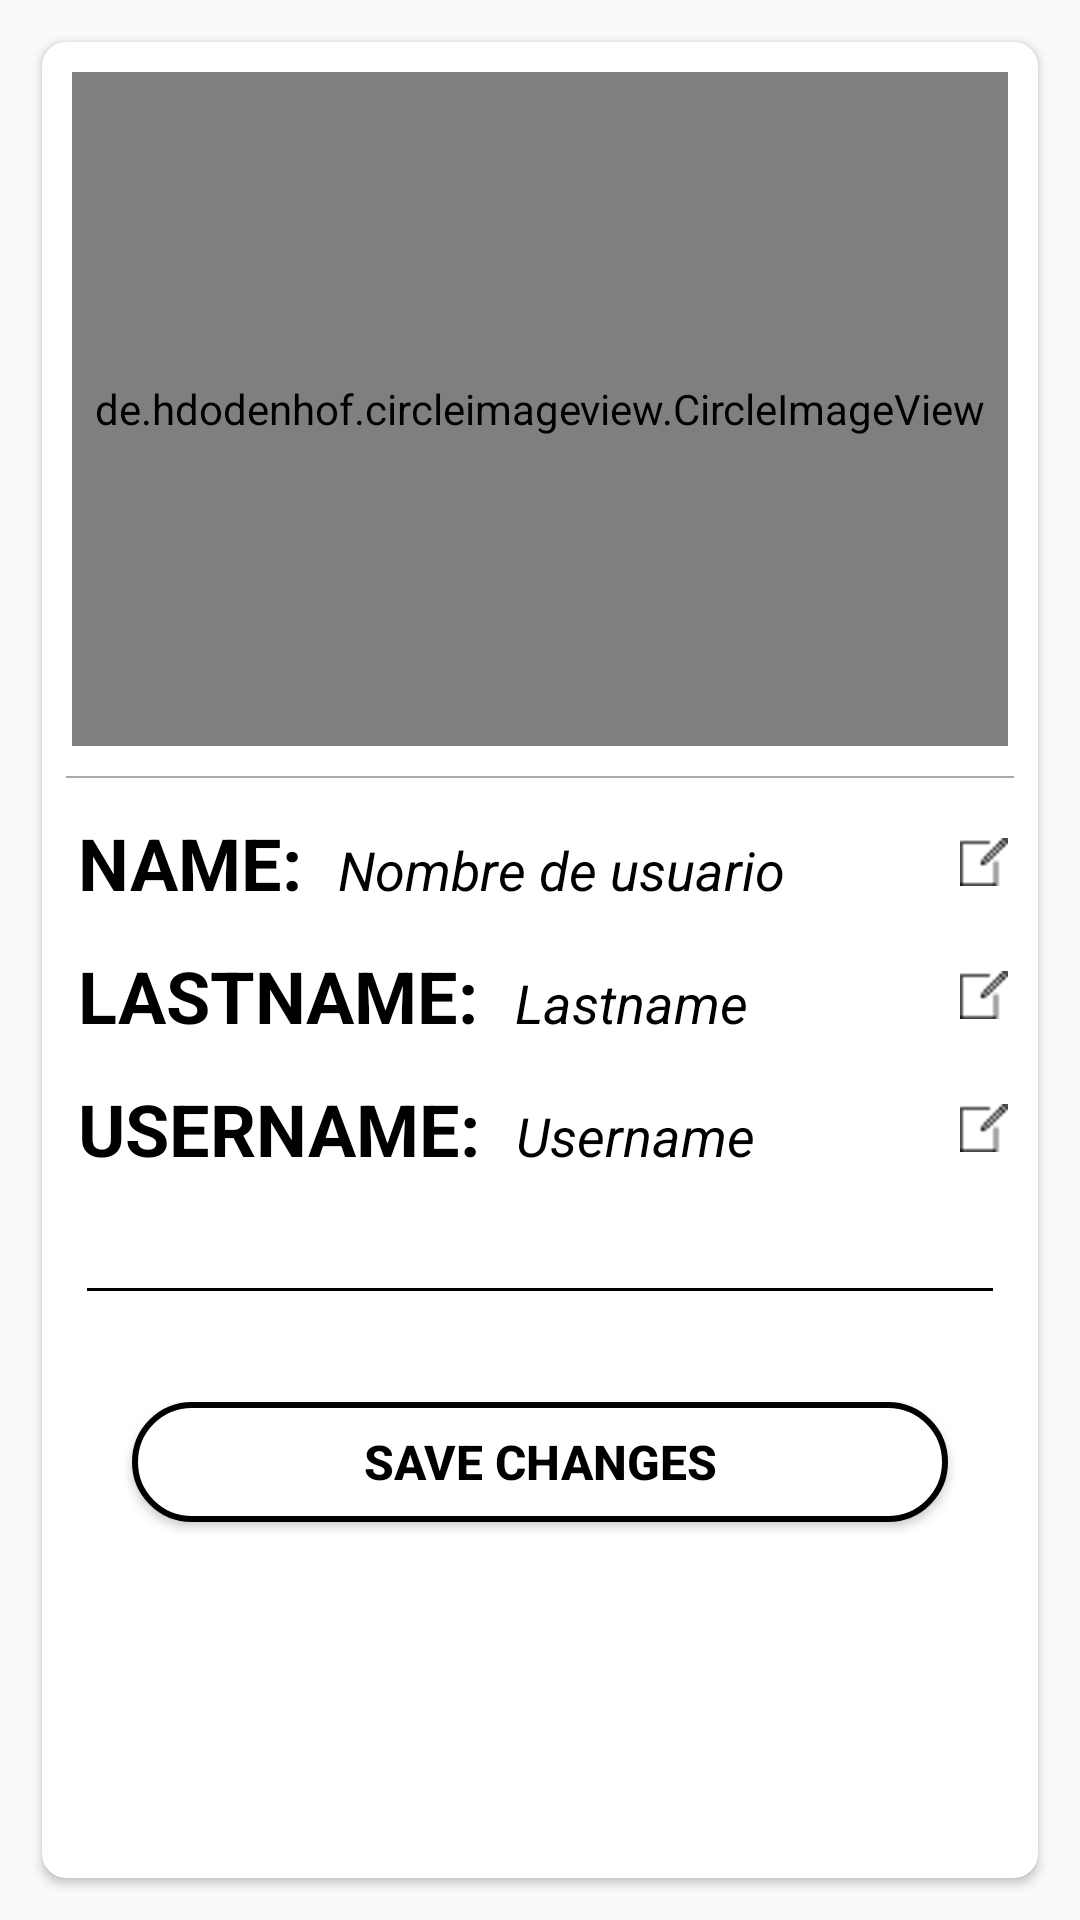

Screen size 1080*1920. Icon name, then its box in pixels as region(x1, y1, x2, y2):
pencil: region(960, 838, 1008, 886), region(960, 971, 1008, 1019), region(960, 1104, 1008, 1152)
